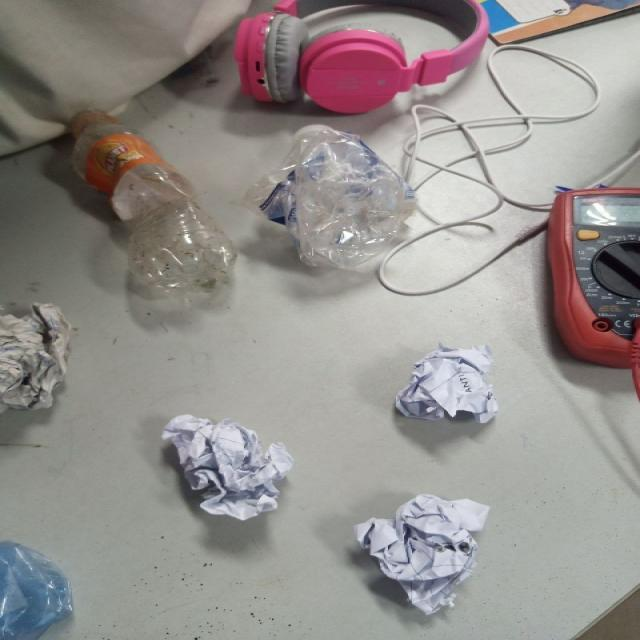Paper: (353, 494, 491, 618), (161, 416, 293, 523), (0, 303, 72, 417), (395, 348, 499, 426)
Plastic: (72, 110, 237, 333), (251, 125, 417, 274)
